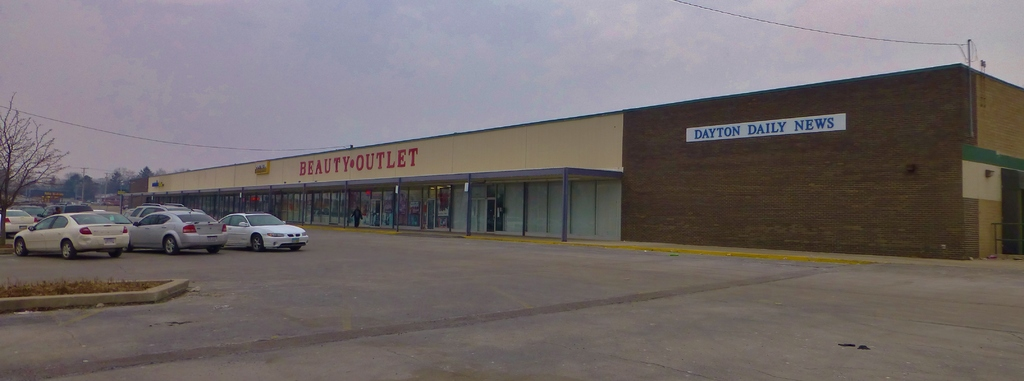Car: (14, 212, 128, 263), (119, 206, 228, 256), (215, 210, 308, 254), (127, 203, 184, 221), (0, 208, 33, 237), (93, 209, 134, 228), (17, 202, 44, 220)
